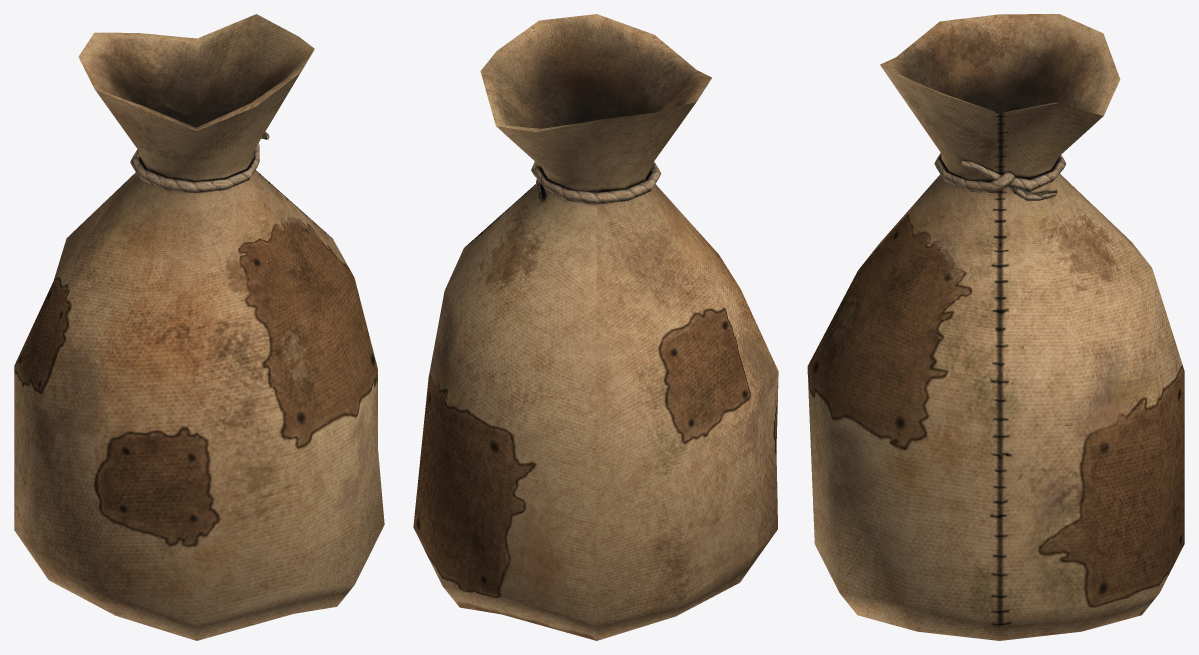
File: Cloth Sack.fbx
3 views of the same model, side by side, from view 1: azimuth 30°, elevation 25°; view 2: azimuth 150°, elevation 25°; view 3: azimuth 270°, elevation 25° (orthographic). The views are drawn at different scales.
Visible parts, largest first — view 1: Cloth Sack; view 2: Cloth Sack; view 3: Cloth Sack.
Boxes of the visible parts, x1,y1,x2,y2 form: Cloth Sack: [14, 14, 384, 640]; Cloth Sack: [413, 14, 778, 640]; Cloth Sack: [807, 14, 1184, 640].
Bounding box in the file's own units: 0.3086 × 0.4741 × 0.3053.
